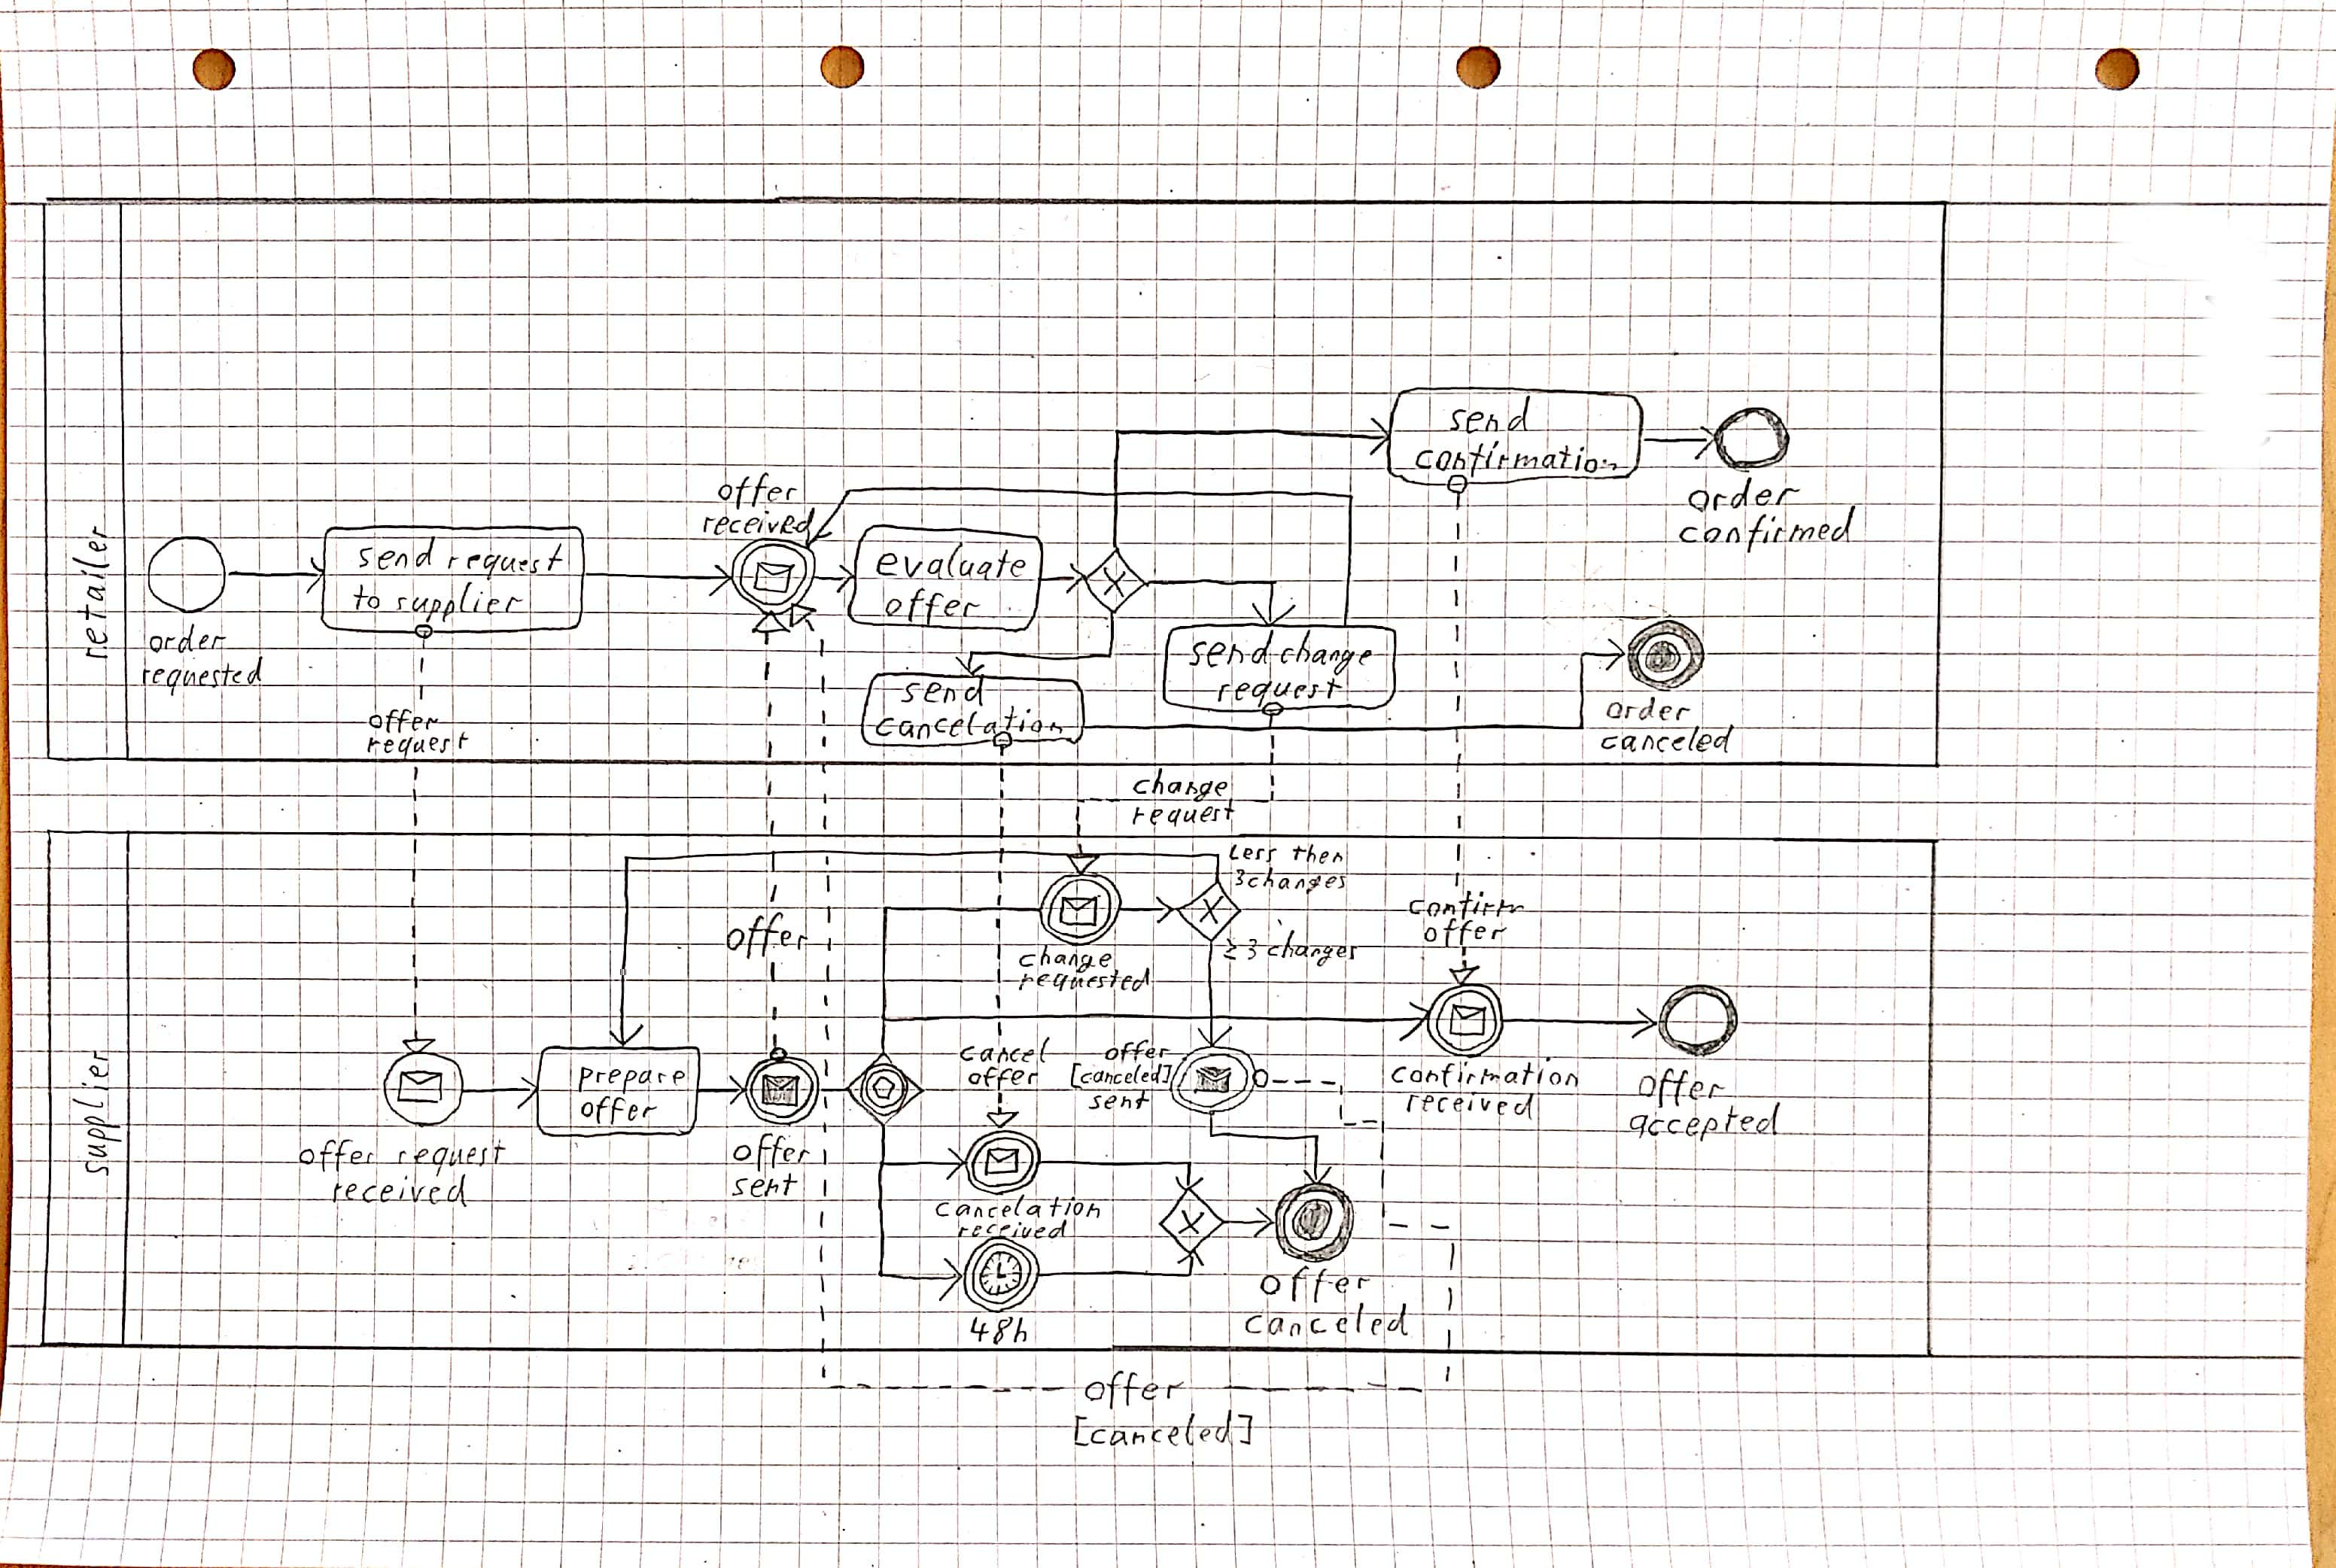3: (1230, 865, 1248, 891)
48: (971, 1311, 1006, 1346)
>=3: (1223, 933, 1260, 966)
Less: (1228, 843, 1277, 865)
[canceled]: (1071, 1410, 1255, 1447), (1066, 1062, 1172, 1088)
accepted: (1629, 1102, 1783, 1144)
cancel: (962, 1043, 1053, 1066)
cancelation: (871, 714, 1074, 749), (936, 1197, 1104, 1223)
canceled: (1246, 1304, 1416, 1342), (1601, 726, 1736, 759)
change: (1279, 633, 1374, 670), (1134, 772, 1232, 802), (1022, 949, 1115, 971)
changes: (1265, 933, 1367, 975), (1248, 866, 1349, 891)
confirm: (1407, 891, 1522, 924)
confirmation: (1403, 427, 1626, 483), (1389, 1062, 1585, 1094)
confirmed: (1678, 511, 1858, 555)
evaluate: (877, 546, 1032, 586)
h: (1015, 1307, 1029, 1349)
offer: (880, 584, 990, 628), (1260, 1267, 1382, 1306), (1083, 1370, 1190, 1409), (733, 908, 805, 964), (1634, 1067, 1729, 1110), (716, 472, 801, 511), (1423, 917, 1507, 950), (731, 1136, 812, 1169), (577, 1095, 656, 1129), (297, 1137, 374, 1169), (1106, 1039, 1178, 1062), (968, 1066, 1041, 1087), (371, 710, 437, 733)
order: (1689, 476, 1804, 520), (145, 625, 231, 660), (1608, 697, 1697, 730)
prepare: (576, 1064, 693, 1095)
received: (327, 1176, 474, 1213), (1402, 1090, 1545, 1125), (700, 509, 824, 541), (955, 1221, 1076, 1241)
request: (1209, 663, 1351, 714), (437, 539, 572, 581), (390, 1137, 507, 1174), (1127, 798, 1241, 829), (367, 731, 471, 758)
requested: (138, 656, 264, 688), (1020, 969, 1151, 994)
retailer: (72, 527, 112, 665)
send: (1442, 397, 1550, 443), (1186, 628, 1272, 674), (352, 539, 432, 577), (892, 682, 992, 712)
sent: (733, 1176, 814, 1199), (1088, 1090, 1150, 1113)
supplier: (70, 1048, 119, 1179), (385, 579, 525, 625)
then: (1291, 843, 1347, 868)
to: (350, 576, 383, 623)
